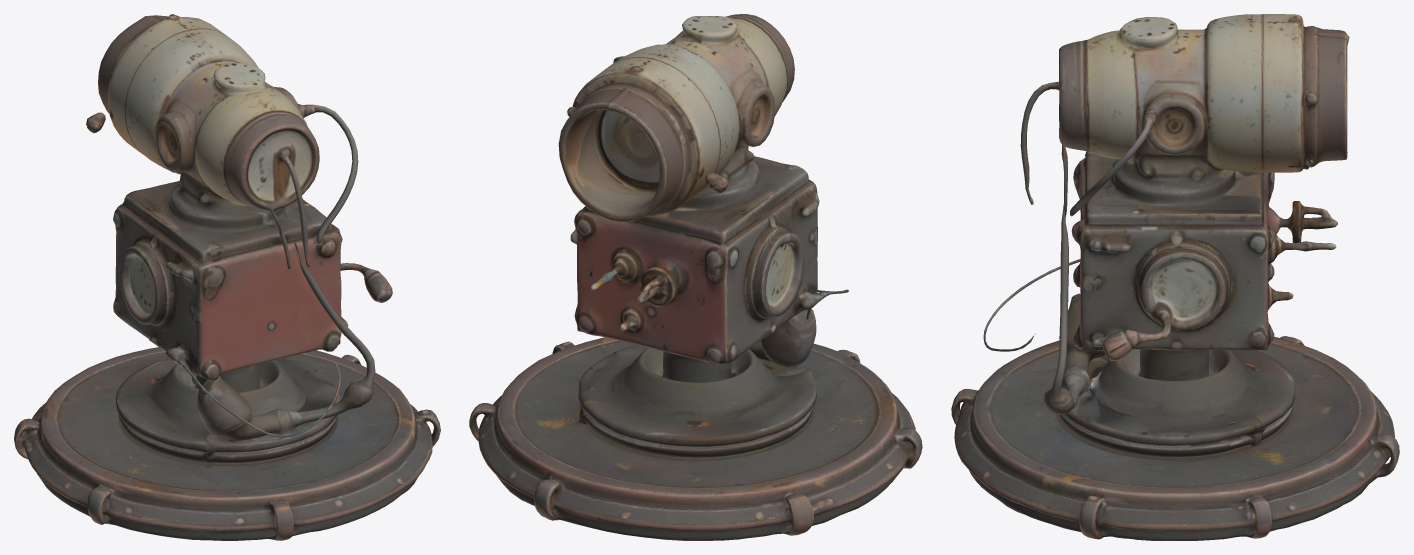
File: projector.fbx
3 renders of one model, left to right at view 1: azimuth 30°, elevation 25°; view 2: azimuth 150°, elevation 25°; view 3: azimuth 270°, elevation 25°, orthographic. The views are drawn at different scales.
Parts seen in each view (by area): view 1: tripo_node_9a0631c5; view 2: tripo_node_9a0631c5; view 3: tripo_node_9a0631c5.
Part boxes in pixels (x1,y1,x2,y2): tripo_node_9a0631c5: (14,14,440,540); tripo_node_9a0631c5: (469,14,922,540); tripo_node_9a0631c5: (951,14,1399,540).
Bounding box in the file's own units: 90.24 × 99.51 × 91.84.
1 material, 1 textured.
